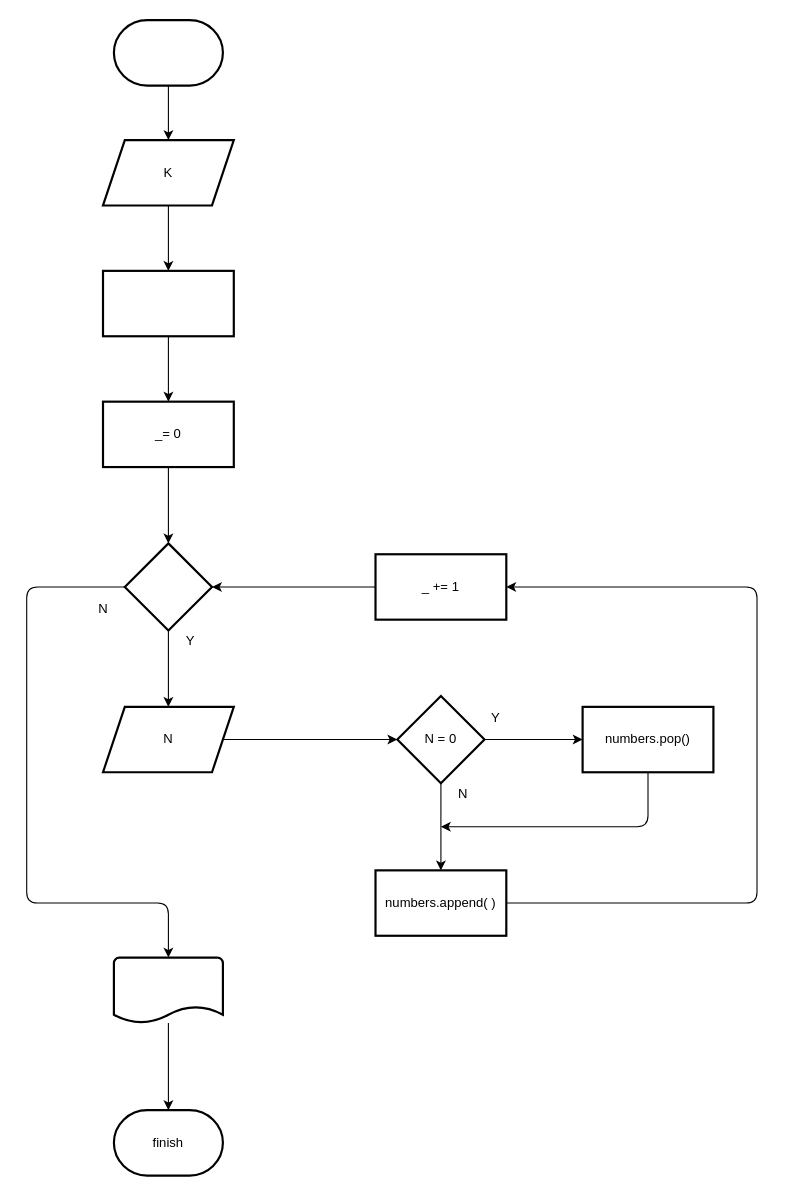
Some shapes in this 785 by 1195 pixel diagram are drawn without their labels. The shapes that lost their labels are listed below. From the top down, each one's box as (x1, y1, x2, y2) in pixels, then its label:
(112, 19, 223, 86): start
(101, 269, 234, 337): numbers = [ ]
(123, 542, 213, 631): _< K
(112, 956, 223, 1024): sum(numbers)
